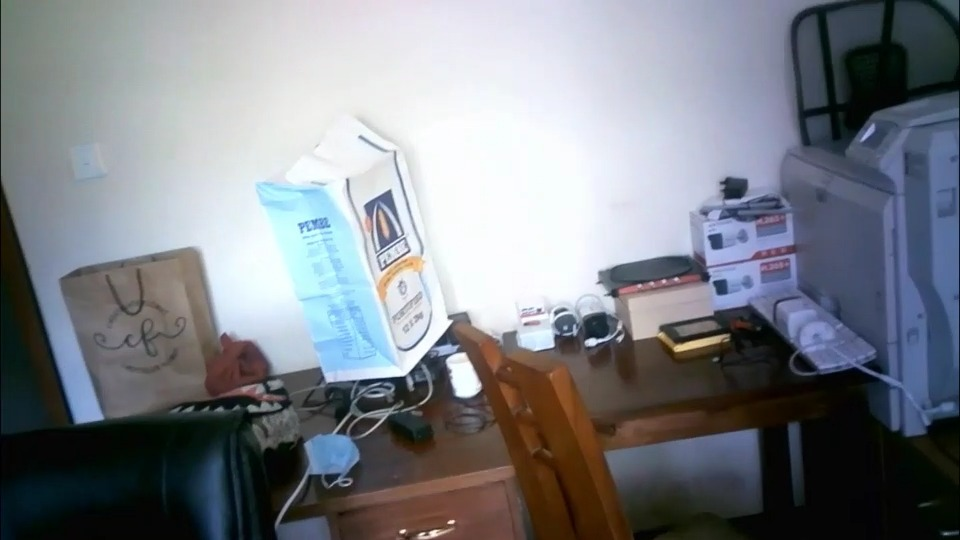wheat_flour_blue_label: (251, 114, 451, 381)
